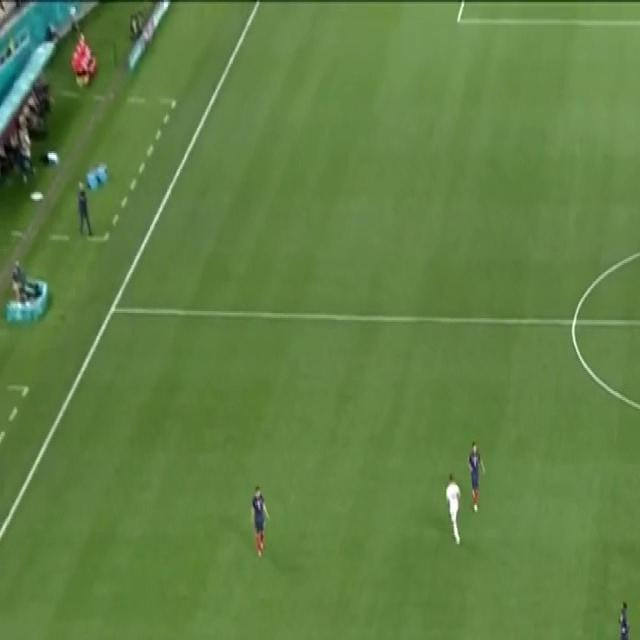player-white: (247, 482, 271, 564), (443, 470, 467, 548), (463, 436, 486, 515), (613, 595, 637, 640)
